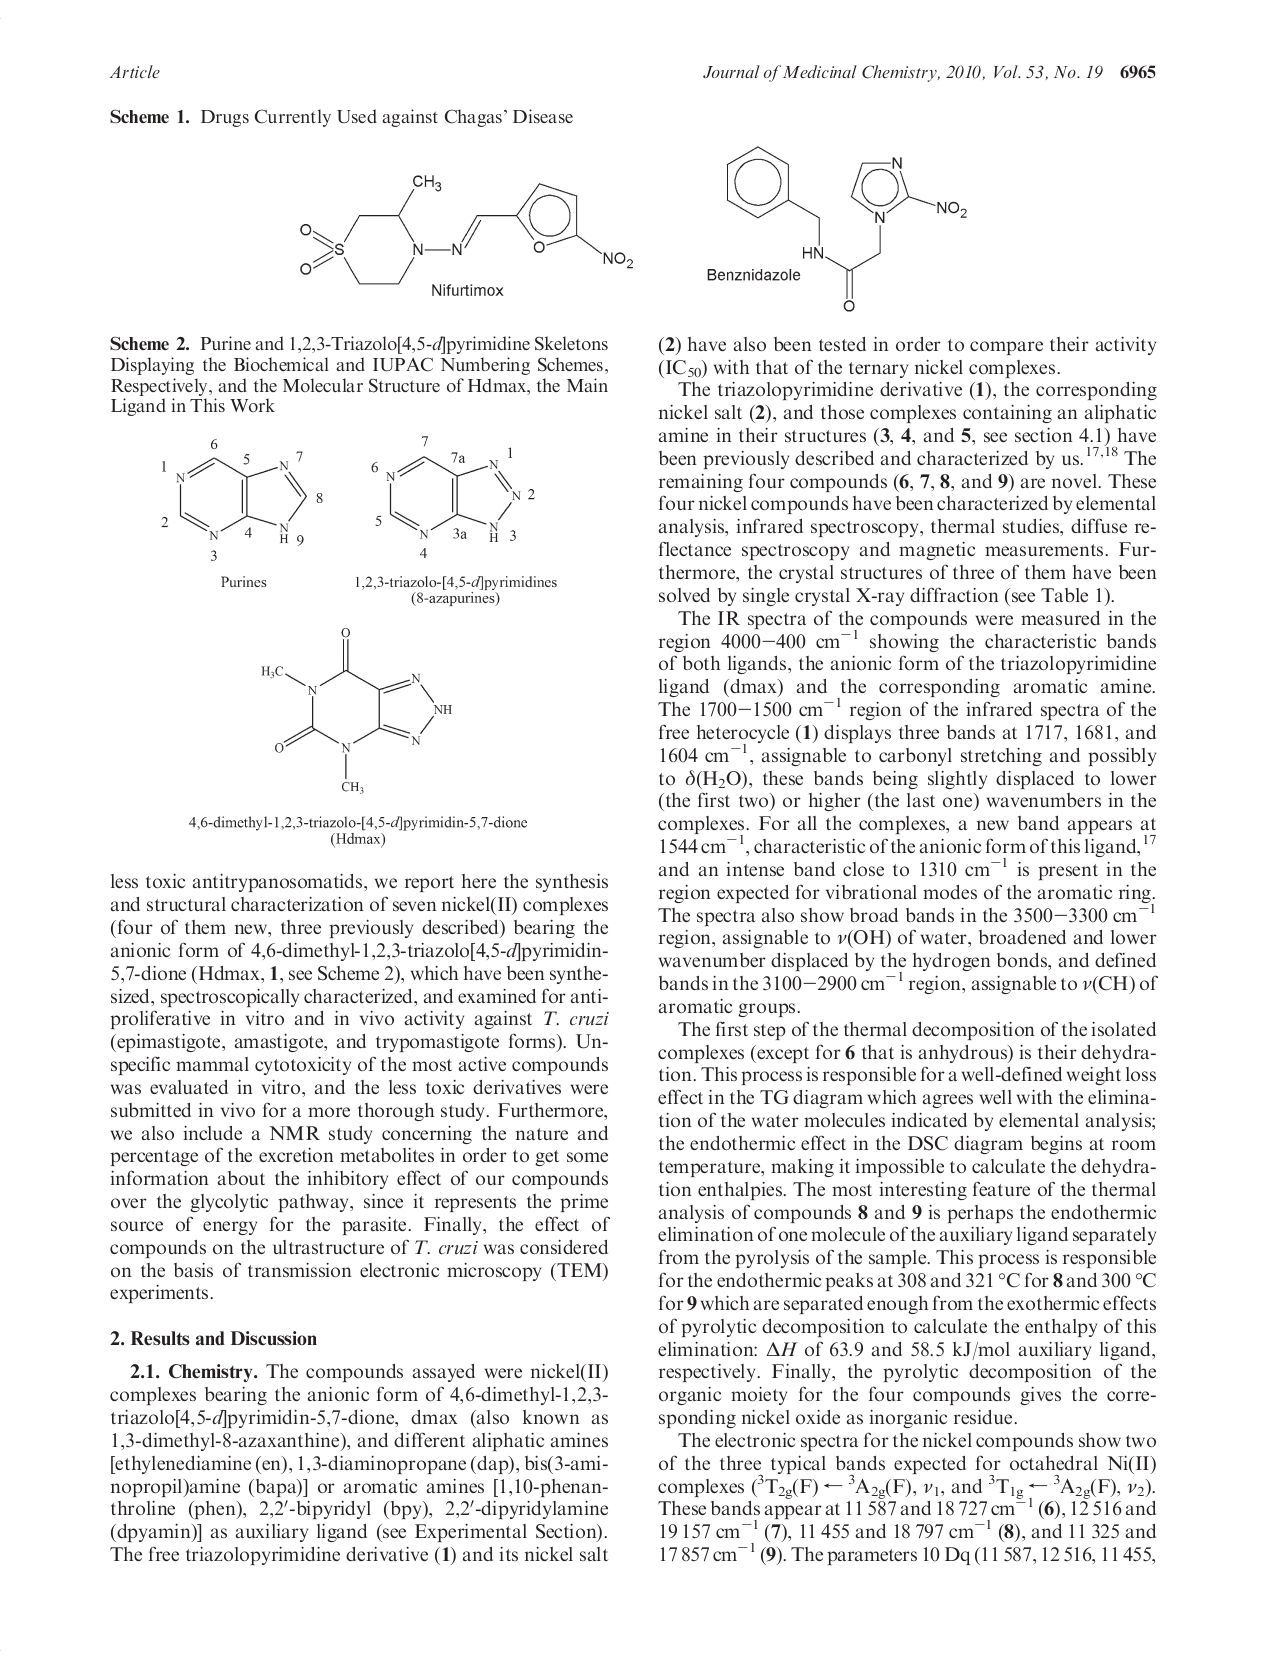exist_molecular: (723, 144, 968, 313), (299, 172, 634, 286), (261, 626, 453, 794), (386, 453, 523, 543), (176, 456, 309, 544)
